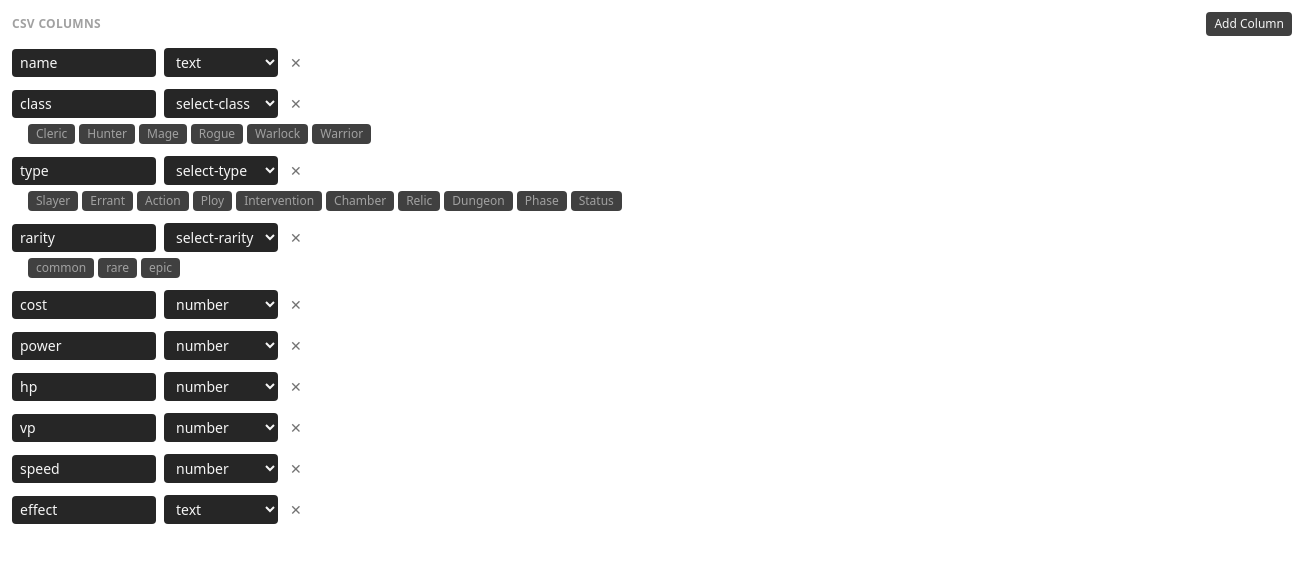
Test: CsvColumnEditor › changing type to "select-type" shows read-only card types and hides choices editor
This screenshot has width=1304, height=567.
change 'name' column (text) to 'select-type'
Select "select-type" in the 1st dropdown named "column type": (221, 62) [164,48,278,77]
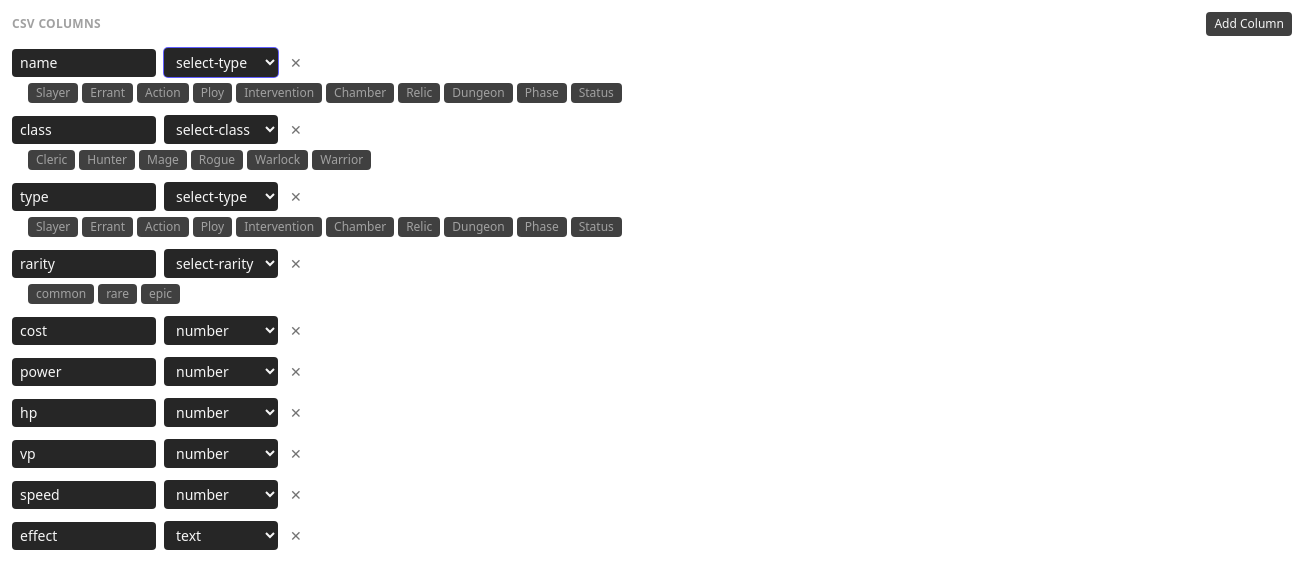
Check: the 1st text "Slayer" is shown, box [28,83,78,103]
